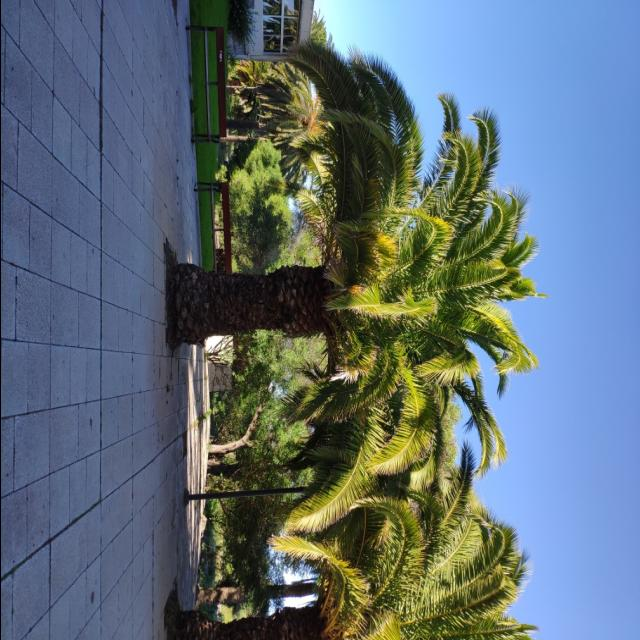Palm-Trees: (168, 69, 540, 543)
